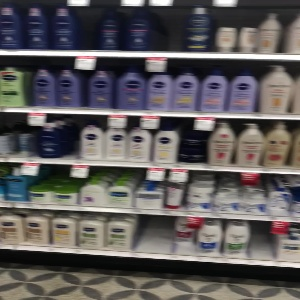void: (136, 217, 192, 260), (249, 221, 275, 264)
